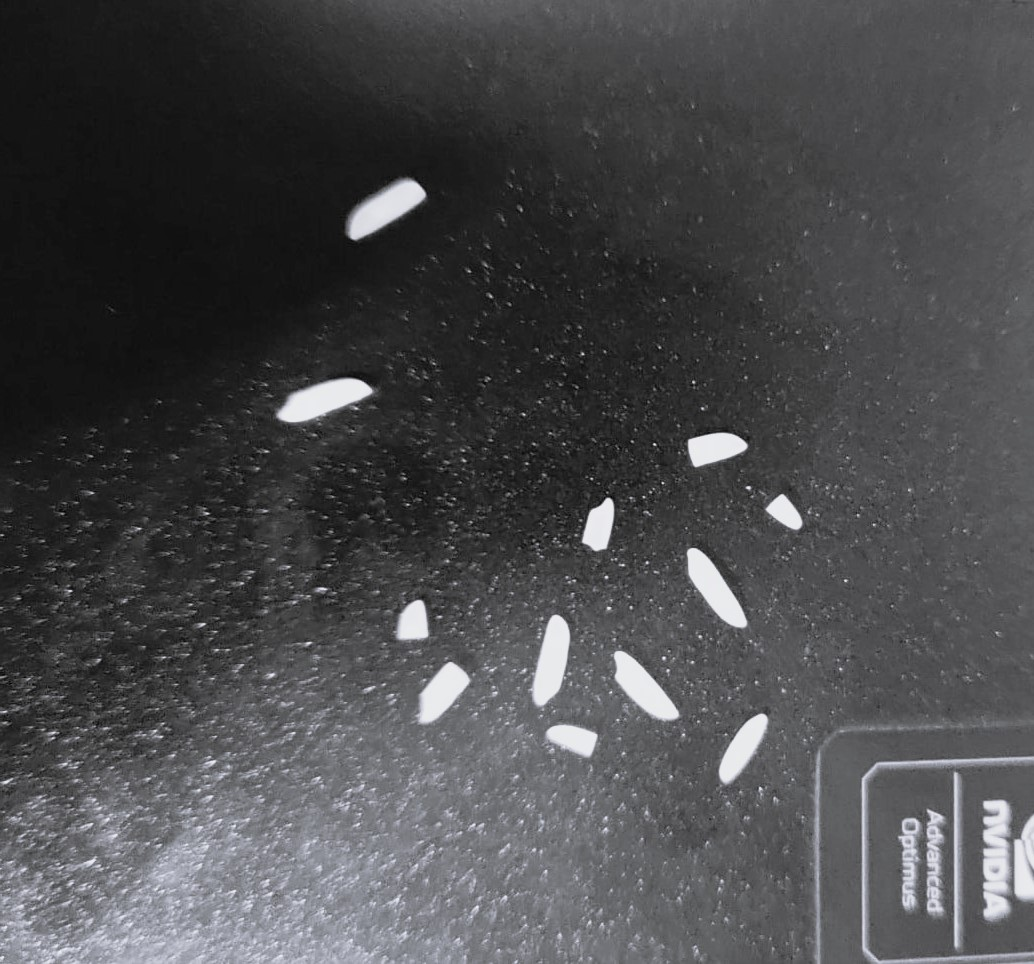broken_grain: (342, 171, 431, 247), (409, 657, 474, 734), (676, 427, 754, 469), (575, 491, 623, 559), (543, 718, 602, 769), (396, 592, 431, 650), (763, 494, 808, 535)
complete_grain: (682, 542, 752, 639), (611, 645, 681, 731), (716, 705, 774, 794), (273, 377, 378, 426), (529, 613, 576, 716)
